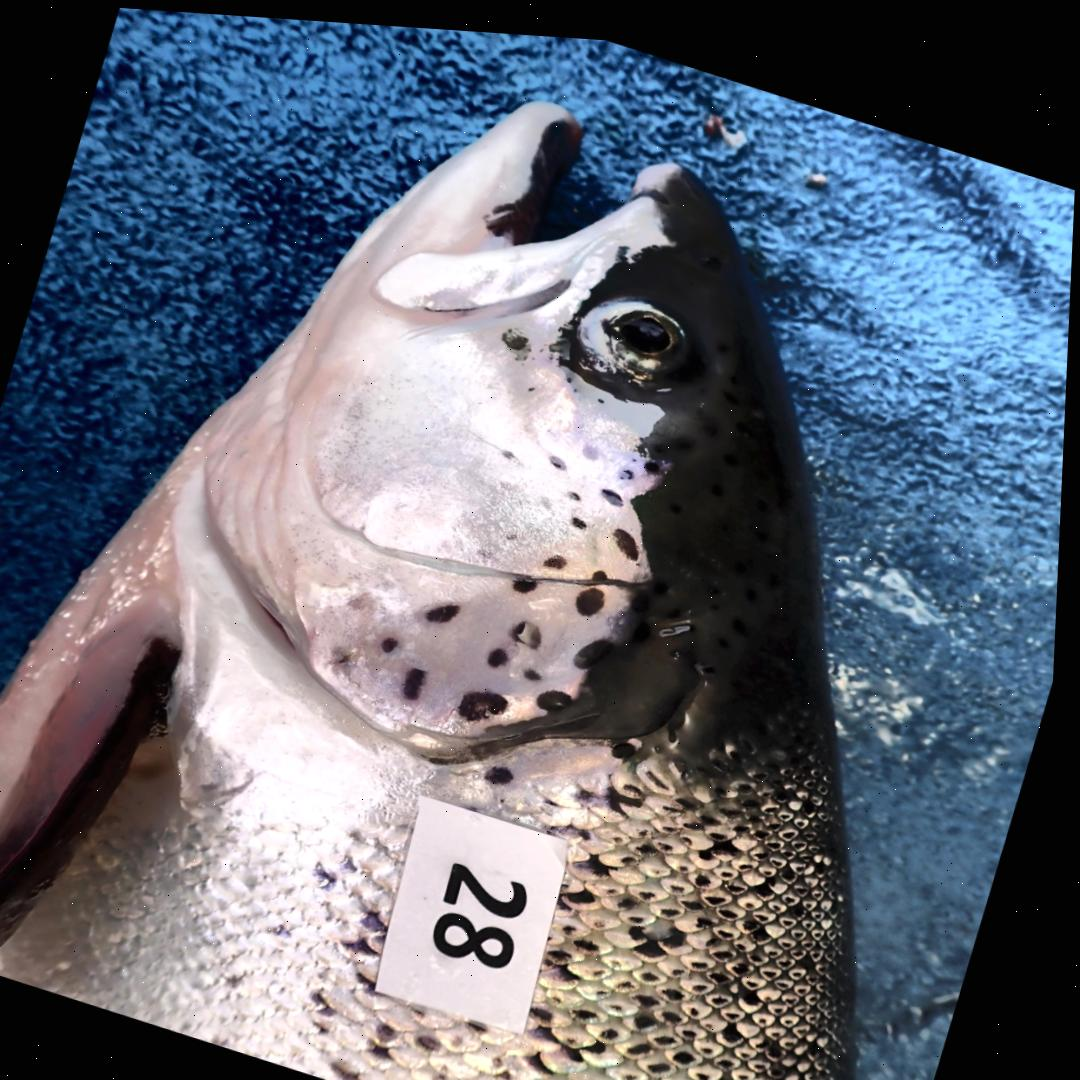spot: (463, 683, 513, 714), (578, 629, 618, 660), (516, 612, 547, 641), (615, 519, 643, 551), (579, 578, 609, 607), (541, 681, 578, 703), (407, 661, 431, 694), (430, 597, 464, 617), (491, 640, 515, 660), (603, 479, 627, 498), (646, 449, 674, 465), (515, 571, 540, 586), (547, 546, 571, 561), (584, 435, 602, 452), (503, 440, 521, 456), (526, 660, 546, 674), (386, 631, 403, 646), (552, 446, 568, 461), (505, 521, 523, 534), (574, 508, 590, 521), (596, 560, 612, 572), (343, 646, 359, 658), (569, 482, 586, 493), (623, 459, 637, 470), (568, 368, 574, 373), (600, 389, 606, 394), (530, 379, 536, 383)
